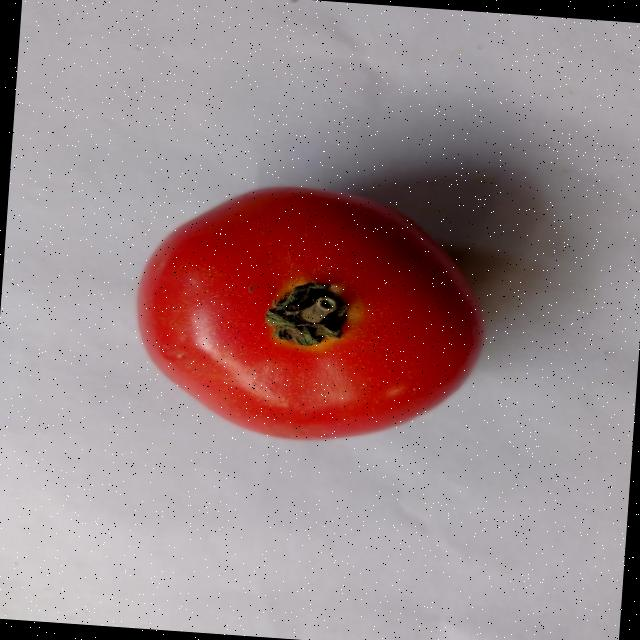Ripe: (127, 171, 499, 454)
